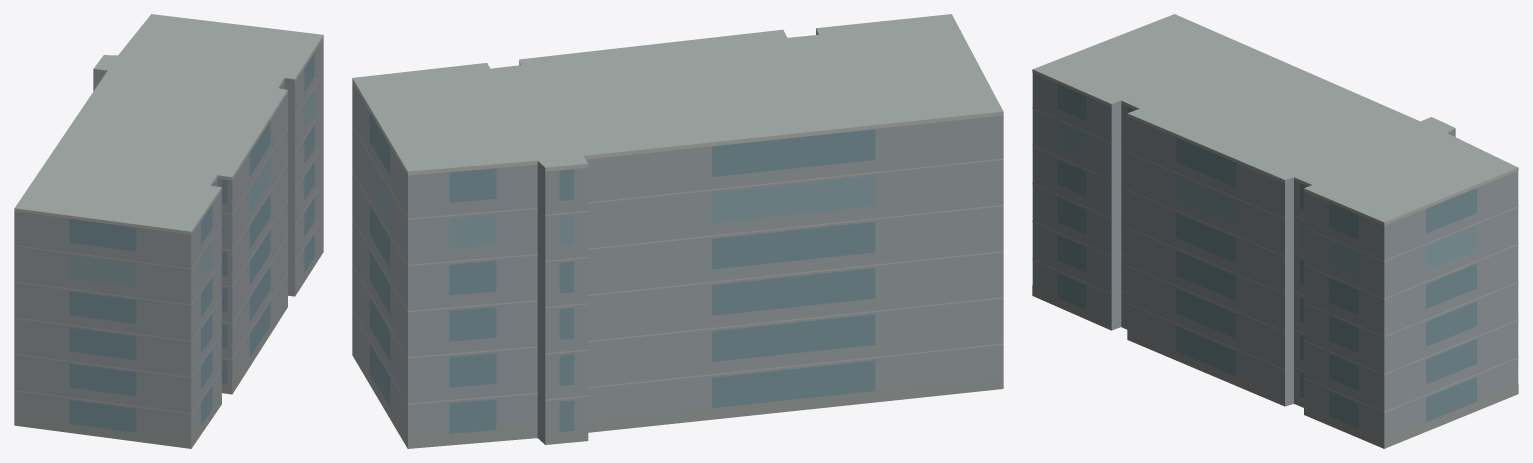
The model's file is survey-upis-32675868.glb.
The picture shows the model from 3 angles, left to right: view 1: azimuth 30°, elevation 25°; view 2: azimuth 150°, elevation 25°; view 3: azimuth 270°, elevation 25°; orthographic projection. The views are drawn at different scales.
Visible parts, largest first — view 1: survey-upis-32675868.tmp; view 2: survey-upis-32675868.tmp; view 3: survey-upis-32675868.tmp.
Part boxes in pixels (x1,y1,x2,y2): survey-upis-32675868.tmp: (14,14,323,448); survey-upis-32675868.tmp: (352,14,1003,448); survey-upis-32675868.tmp: (1032,14,1518,448).
Bounding box in the file's own units: 34.55 × 17.5 × 34.05.
